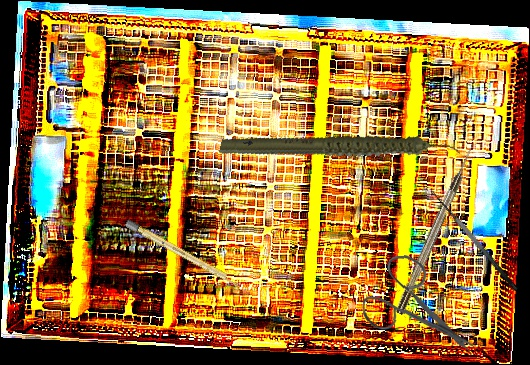Handpiece: (218, 87, 462, 213)
Hook Surgical: (393, 146, 477, 316)
Iris Scissors: (361, 253, 477, 358)
Scalpel Handle: (124, 218, 243, 290)
Spatula Surgical: (425, 188, 519, 299)
